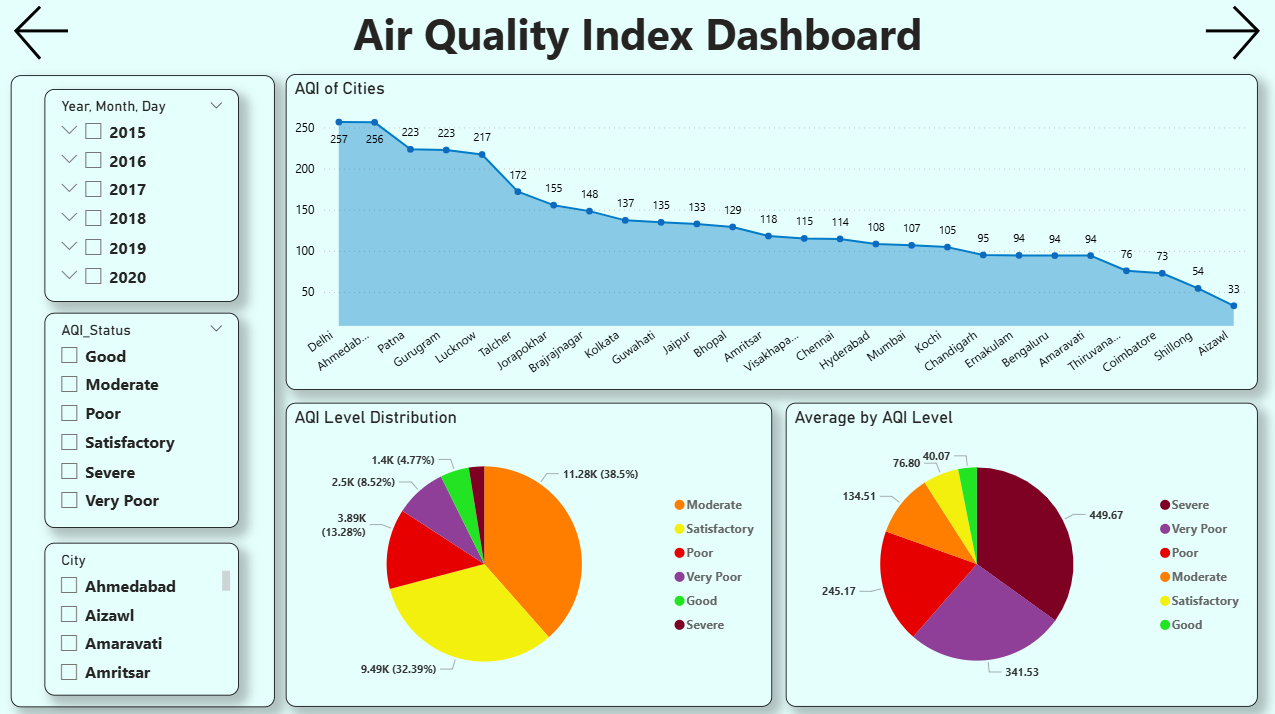

This screenshot's page, from the dashboard's own definition file:
{"tool":"powerbi","page":{"name":"Page 2","canvas":[1280,720],"ordinal":1},"visuals":[{"type":"textbox","box":[131.2,0,1018.8,67.5],"z":0},{"type":"actionButton","box":[1190,0,90,67.5],"z":1000},{"type":"actionButton","box":[0,0,90,67.5],"z":2000},{"type":"shape","box":[13.5,75.8,264.1,632.2],"z":3000},{"type":"slicer","fields":{"Values":["In.Date.Variation.Date Hierarchy.Year","In.Date.Variation.Date Hierarchy.Month","In.Date.Variation.Date Hierarchy.Day"]},"box":[47.7,90.5,194.4,212.8],"z":4000},{"type":"slicer","fields":{"Values":["In.AQI_Status"]},"box":[47.7,314.3,194.4,215.2],"z":5000},{"type":"slicer","fields":{"Values":["In.City"]},"box":[47.7,544.2,194.4,152.9],"z":6000},{"type":"areaChart","title":"AQI of Cities","fields":{"Category":["In.City"],"Y":["Avg(In.AQI)"]},"box":[288.9,75.3,971.6,316],"z":7000},{"type":"pieChart","title":"AQI Level Distribution","fields":{"Category":["In.AQI_Status"],"Y":["CountNonNull(In.AQI)"]},"box":[288.9,403.7,486.4,303.7],"z":8000},{"type":"pieChart","title":"Average by AQI Level","fields":{"Category":["In.AQI_Status"],"Y":["Avg(In.AQI)"]},"box":[788.9,403.7,471.6,303.7],"z":9000}]}

Visuals, with their boxes in screenshot pixels (x1, y1, x2, y2), scaled from the page's 1280x720 canvas onto the 1275x714 screenshot:
textbox: detection(131, 0, 1146, 67)
actionButton: detection(1185, 0, 1274, 67)
actionButton: detection(0, 0, 90, 67)
shape: detection(13, 75, 277, 702)
slicer - In.Date.Variation.Date Hierarchy.Year x In.Date.Variation.Date Hierarchy.Month: detection(48, 90, 241, 301)
slicer - In.AQI_Status: detection(48, 312, 241, 525)
slicer - In.City: detection(48, 540, 241, 691)
"AQI of Cities" areaChart: detection(288, 75, 1256, 388)
"AQI Level Distribution" pieChart: detection(288, 400, 772, 702)
"Average by AQI Level" pieChart: detection(786, 400, 1256, 702)
